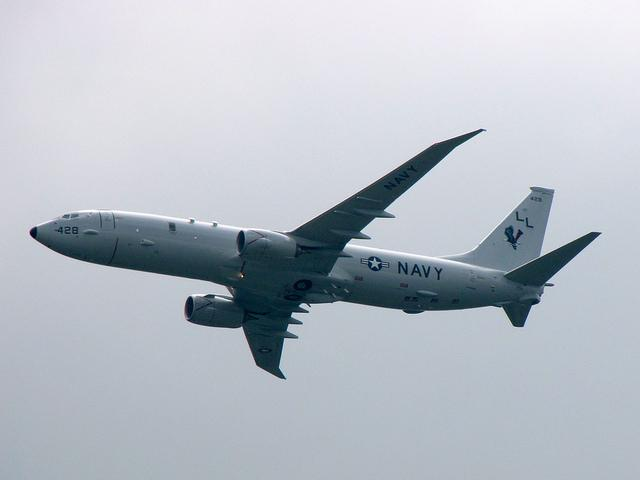airplane: (28, 126, 605, 382)
